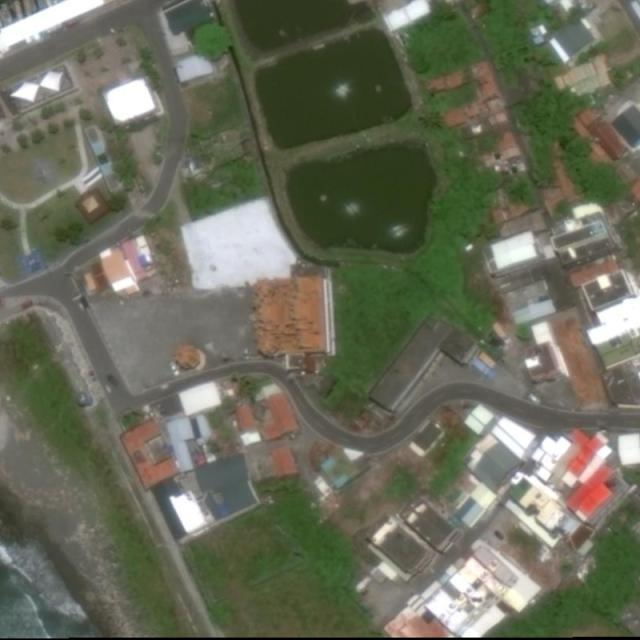vehicle: (170, 362, 181, 374), (529, 393, 540, 403), (243, 347, 249, 360)
